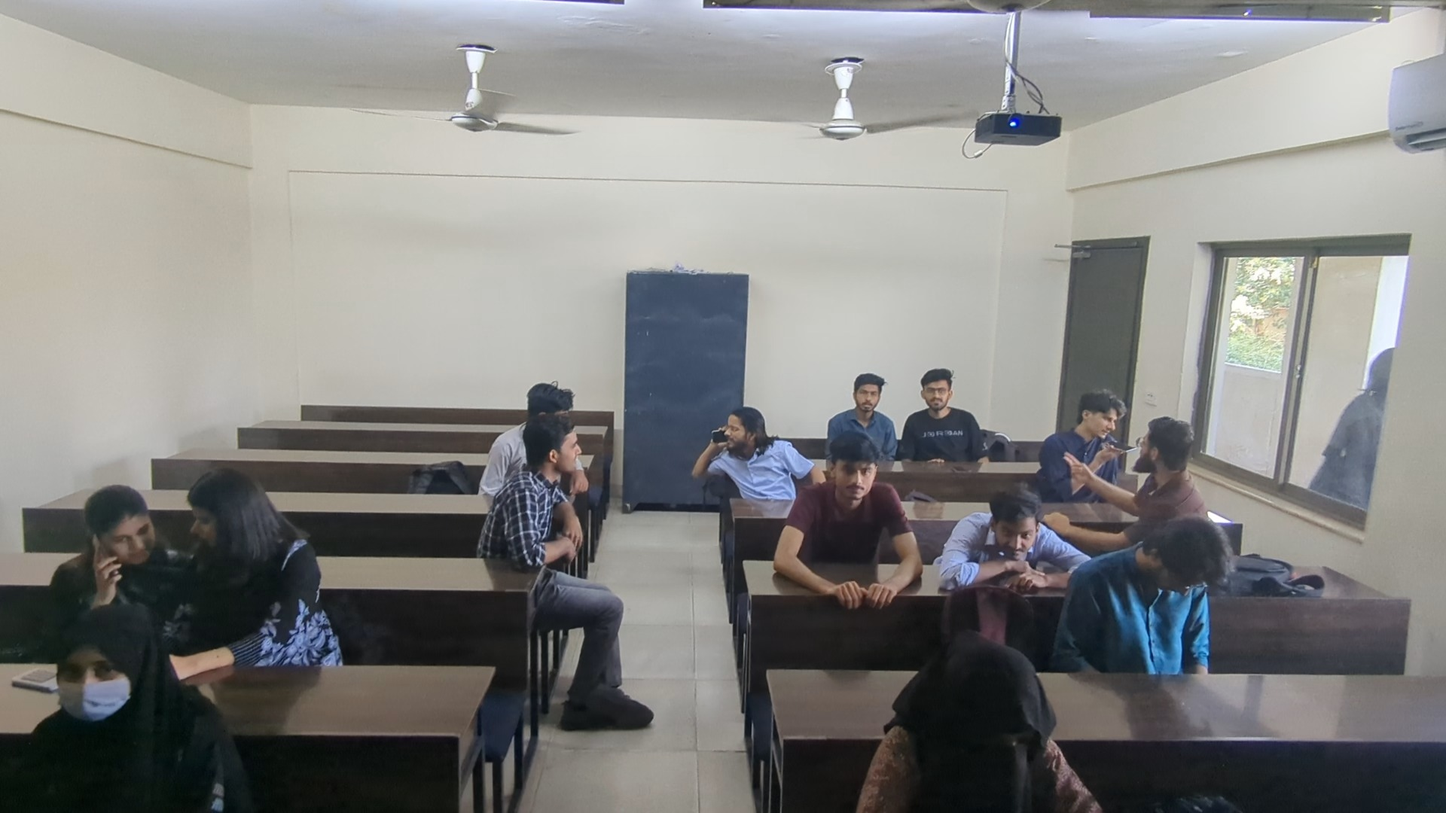look_forward: (45, 619, 166, 746), (822, 435, 917, 557), (909, 359, 976, 450), (836, 366, 897, 436)
sleep: (967, 486, 1054, 603)
turn_head: (167, 454, 299, 644), (505, 430, 581, 542), (1145, 405, 1217, 505), (523, 375, 580, 429)
using_device: (905, 607, 1069, 805), (1121, 516, 1220, 673), (70, 479, 183, 604), (684, 390, 774, 506), (1060, 373, 1136, 484)
